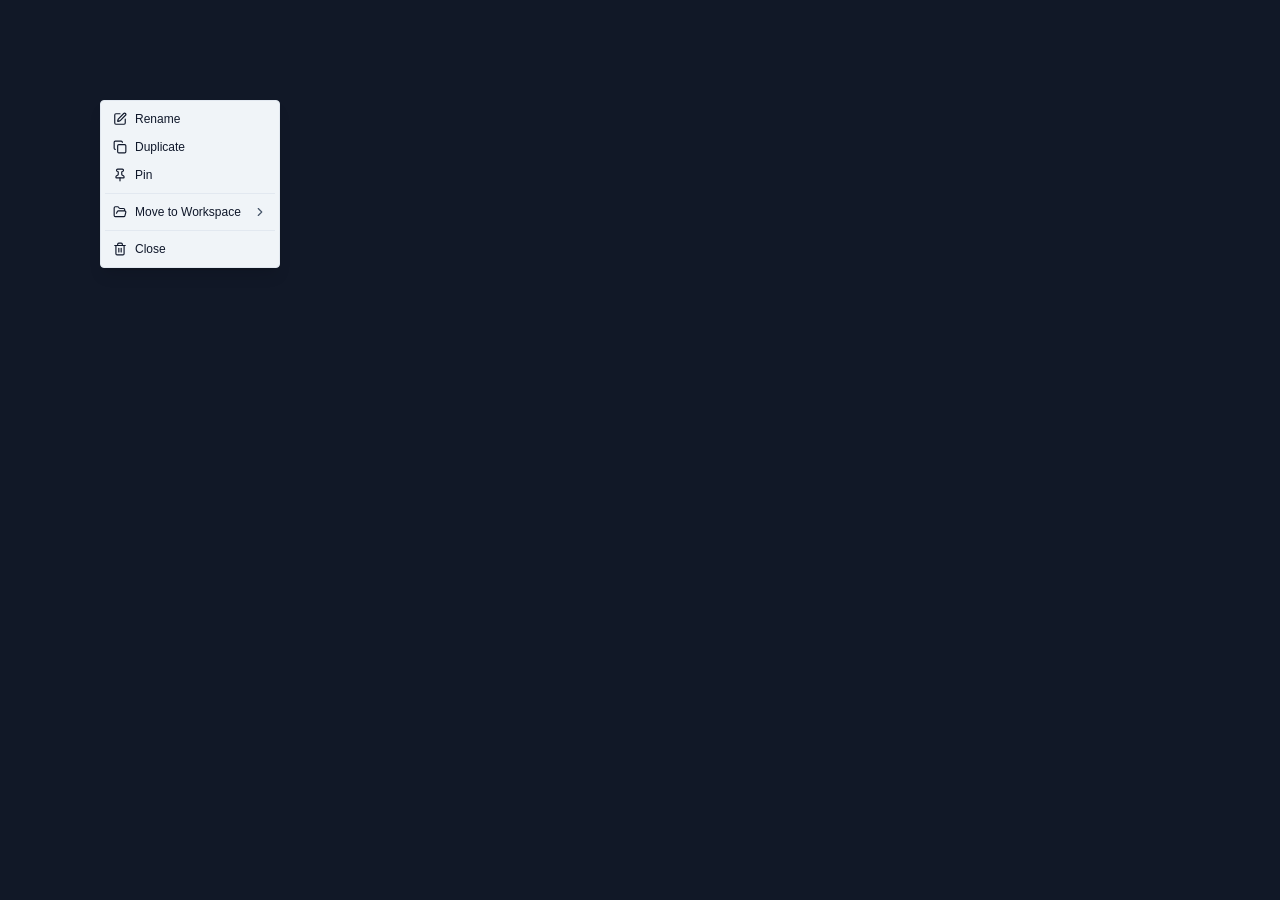
Test: SidebarTabContextMenu › Close Action › should show confirmation dialog when Close is clicked
Click the button "Close": (190, 249) [101, 235, 279, 263]
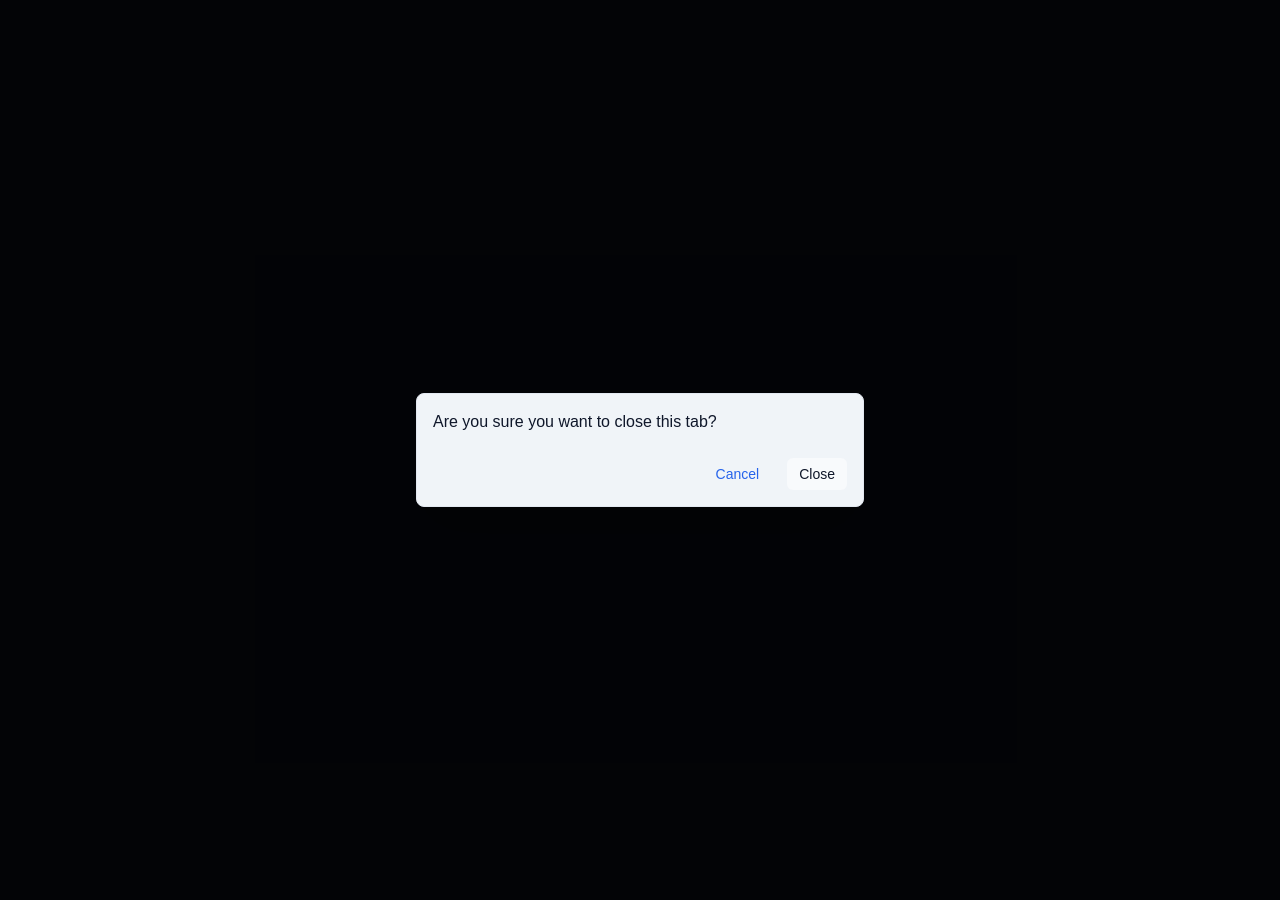
Now the text "Are you sure you want to close this tab?" is shown, box [433, 413, 717, 430]
